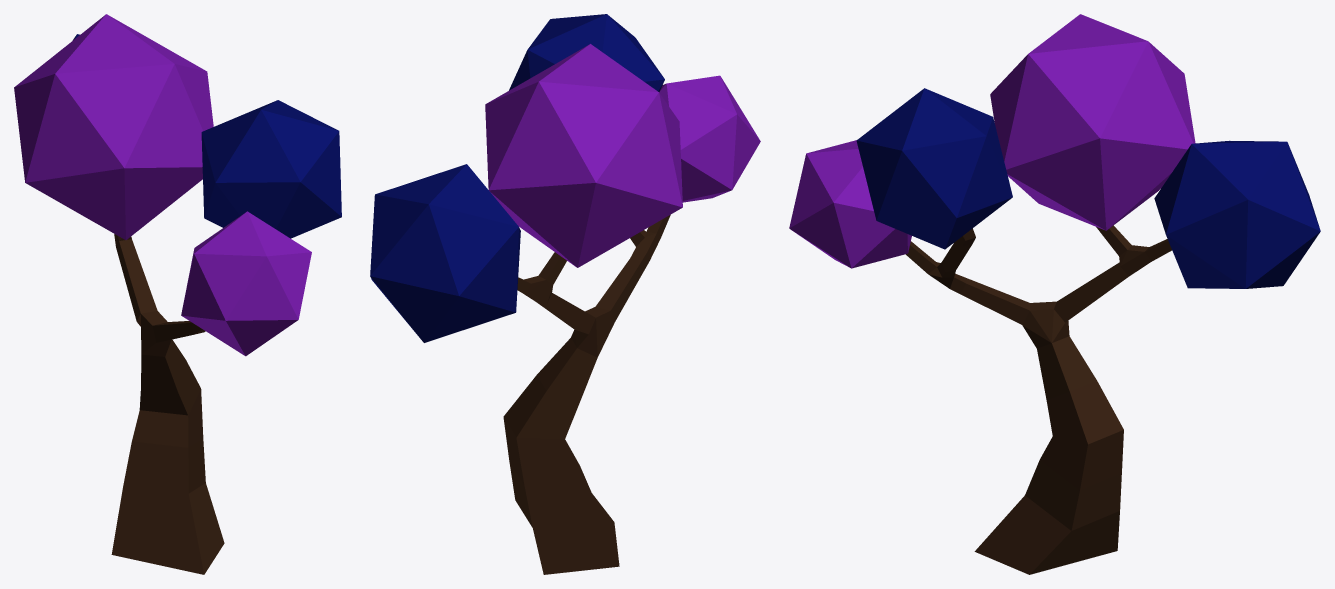
The model's file is new tree1.fbx.
3 renders of one model, left to right at view 1: azimuth 30°, elevation 25°; view 2: azimuth 150°, elevation 25°; view 3: azimuth 270°, elevation 25°, orthographic.
Visible parts, largest first — view 1: 큐브; view 2: 큐브; view 3: 큐브.
Boxes of the visible parts, <box> form: 큐브: <box>14,14,341,574</box>; 큐브: <box>370,14,760,574</box>; 큐브: <box>789,14,1320,574</box>.
Size of the model in its own units: 988 by 1983 by 1893.
